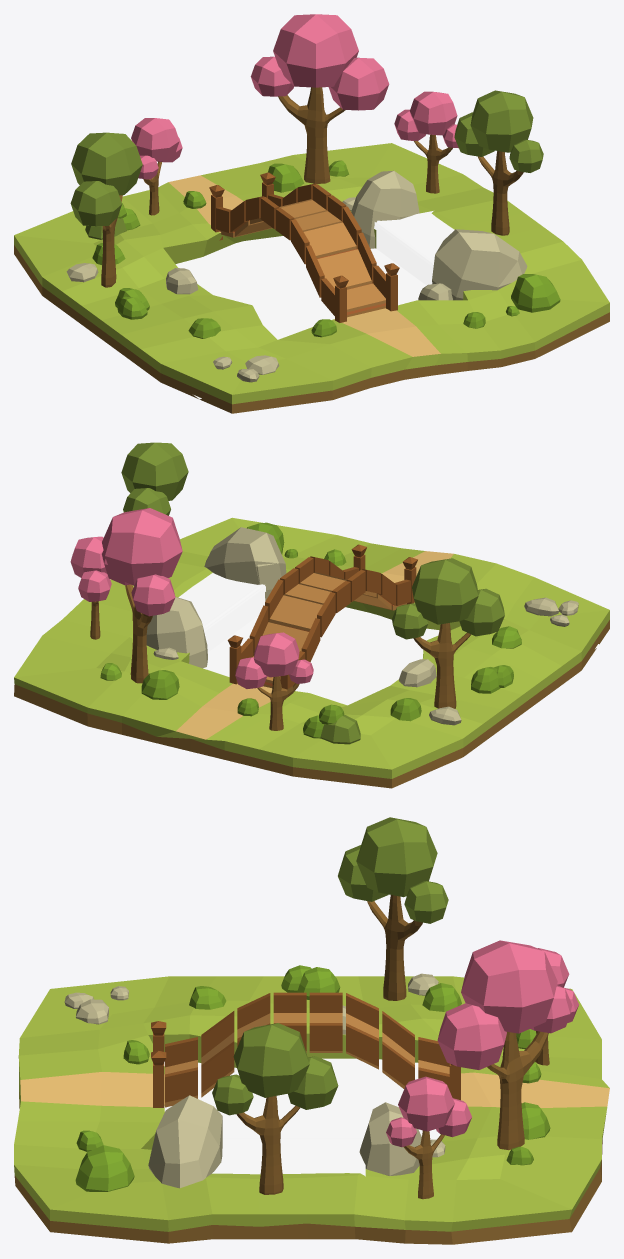
The model's file is japon parkı.glb.
3 views of the same model, one above another, from view 1: azimuth 30°, elevation 25°; view 2: azimuth 150°, elevation 25°; view 3: azimuth 270°, elevation 25° (orthographic). The views are drawn at different scales.
Visible parts, largest first — view 1: Plane, Plane.003, Cube.003, Plane.008, Cube.015, Cube.042, Plane.011, Cube.011, Cube, Cube.002, Cube.005, Plane.012 (+21 smaller); view 2: Plane, Plane.003, Cube.003, Cube.042, Cube.015, Plane.011, Plane.008, Cube.011, Cube, Plane.012, Plane.004, Cube.041 (+22 smaller); view 3: Plane, Plane.003, Cube.003, Plane.011, Plane.012, Cube.042, Cube.011, Cube.015, Plane.004, Cube.005, Cube.002, Cube (+20 smaller).
Boxes of the visible parts, <box> form: Plane: <box>14,143,609,413</box>; Plane.003: <box>175,236,426,399</box>; Cube.003: <box>273,14,358,87</box>; Plane.008: <box>232,199,385,314</box>; Cube.015: <box>435,229,519,287</box>; Cube.042: <box>71,132,142,195</box>; Plane.011: <box>216,196,334,315</box>; Cube.011: <box>470,90,533,152</box>; Cube: <box>351,170,419,248</box>; Cube.002: <box>278,87,345,183</box>; Cube.005: <box>328,57,389,110</box>; Plane.012: <box>268,183,385,298</box>; Plane: <box>14,517,609,788</box>; Plane.003: <box>203,607,600,705</box>; Cube.003: <box>102,508,182,585</box>; Cube.042: <box>412,558,478,624</box>; Cube.015: <box>204,527,285,584</box>; Plane.011: <box>292,569,410,685</box>; Plane.008: <box>253,572,393,685</box>; Cube.011: <box>121,442,188,500</box>; Cube: <box>146,597,207,668</box>; Plane.012: <box>241,556,358,659</box>; Plane.004: <box>178,573,257,624</box>; Cube.041: <box>413,623,470,708</box>; Plane: <box>14,976,609,1244</box>; Plane.003: <box>164,1058,440,1139</box>; Cube.003: <box>461,940,557,1033</box>; Plane.011: <box>165,992,449,1067</box>; Plane.012: <box>165,1023,449,1102</box>; Cube.042: <box>356,817,437,897</box>; Cube.011: <box>233,1023,309,1097</box>; Cube.015: <box>148,1095,222,1179</box>; Plane.004: <box>212,1141,365,1176</box>; Cube.005: <box>437,1003,506,1069</box>; Cube.002: <box>487,1031,548,1150</box>; Cube: <box>359,1102,421,1175</box>.
Size of the model in its own units: 9.23 by 4.31 by 9.35.
